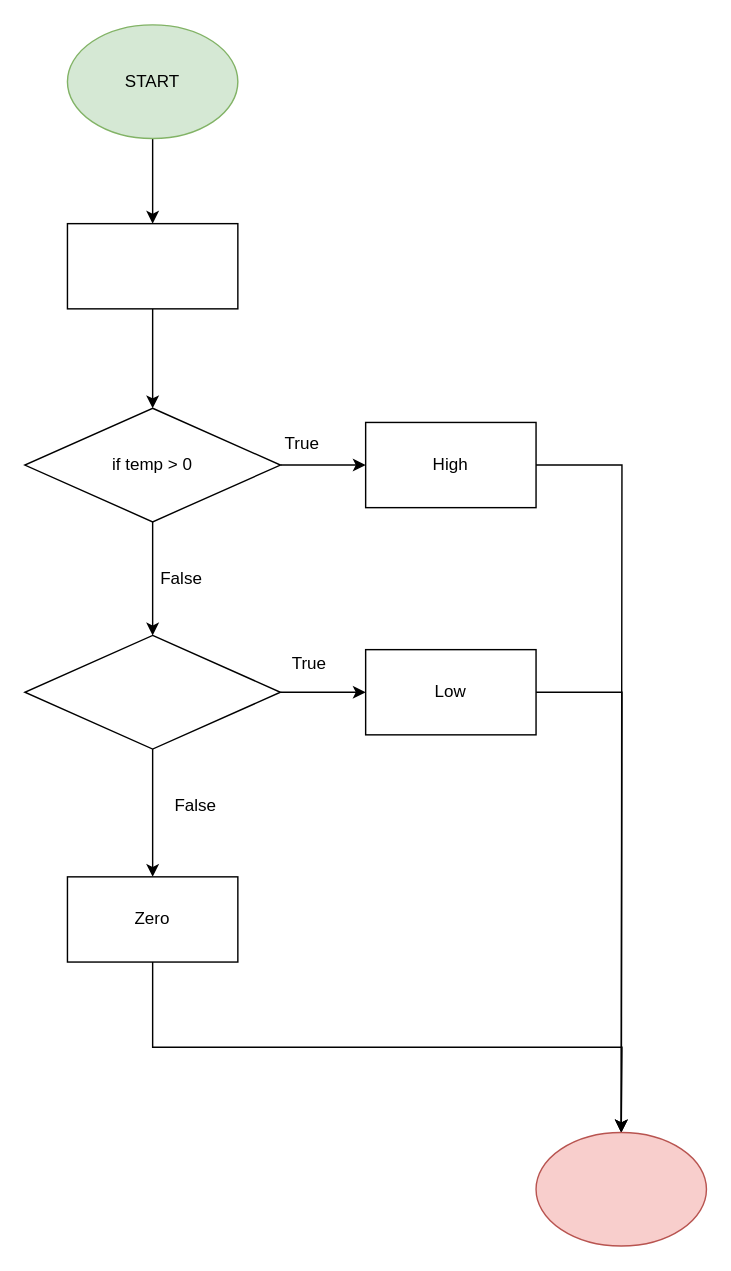
Image size: 731x1271. Some labels were removed from this diagram. Each missing label, with the centre of its shape:
END: (620,1188)
if temp < 0: (151,691)
input temp: (152,265)
